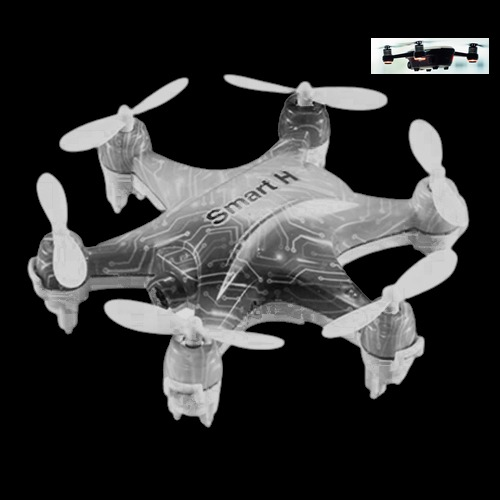drone: (25, 76, 467, 427), (371, 38, 489, 74)
